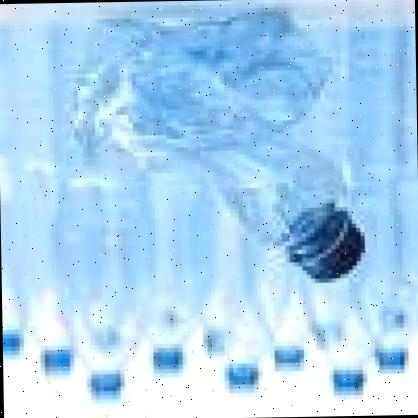bottle: (50, 0, 368, 285)
cap: (300, 224, 372, 290)
